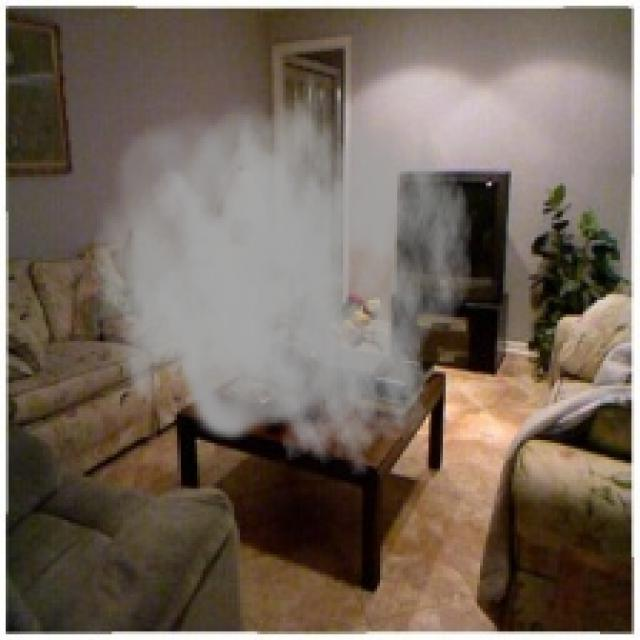smoke: (94, 52, 474, 477)
